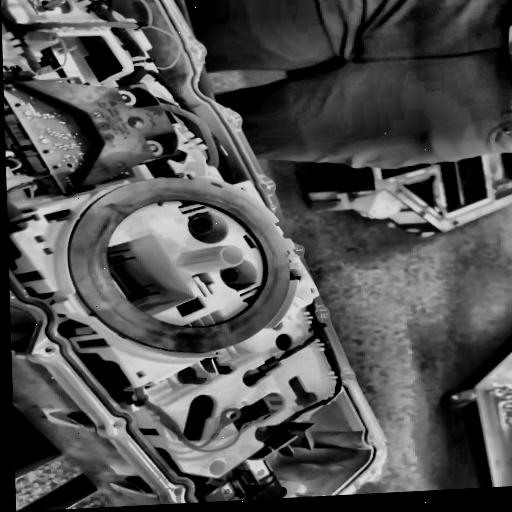bms_unit: (0, 0, 390, 504)
connector: (65, 178, 293, 353)
